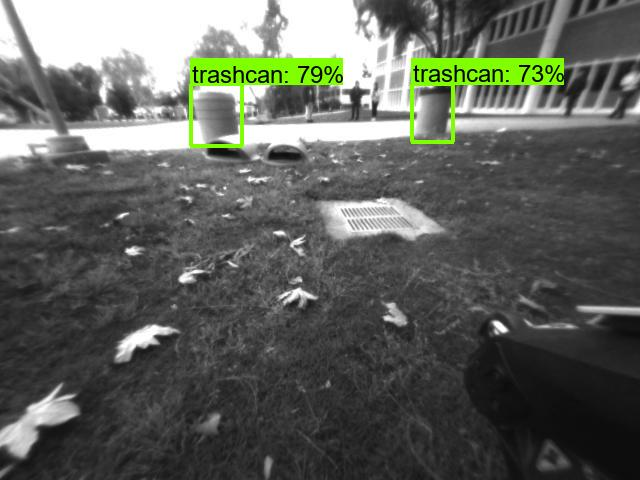trashcan: (188, 87, 243, 143), (416, 87, 451, 140)
